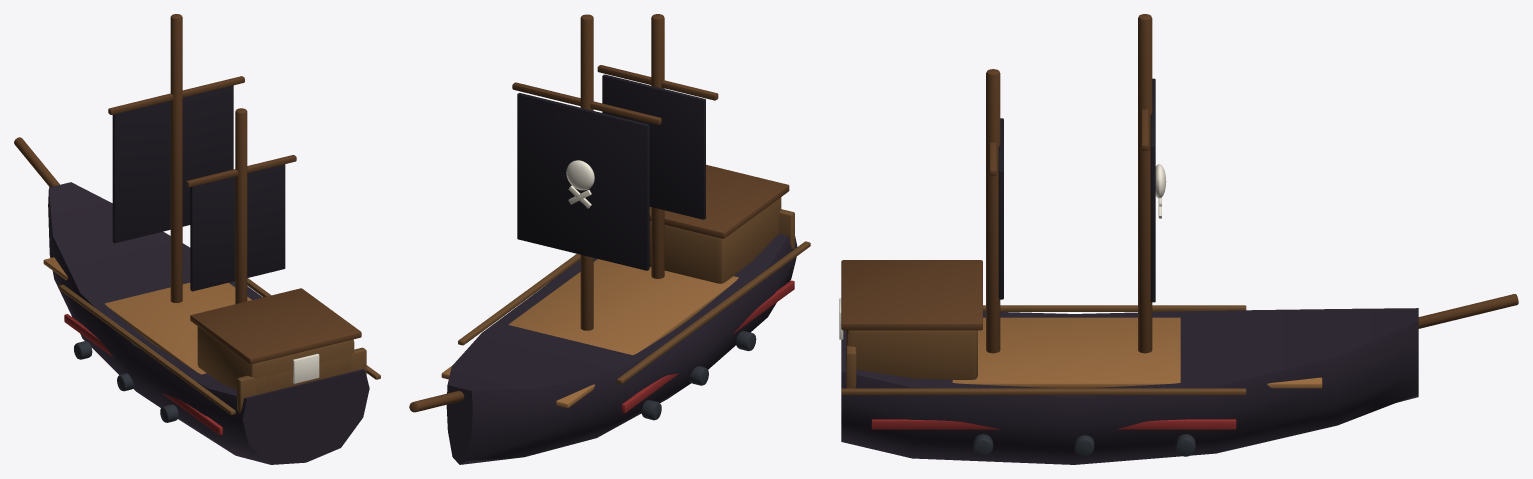
The model's file is PirateShipSmall.glb.
3 views of the same model, side by side, from view 1: azimuth 30°, elevation 25°; view 2: azimuth 150°, elevation 25°; view 3: azimuth 270°, elevation 25° (orthographic). The views are drawn at different scales.
Visible parts, largest first — view 1: PirateShipSmall; view 2: PirateShipSmall; view 3: PirateShipSmall.
Boxes of the visible parts, x1=… form: PirateShipSmall: x1=14, y1=14, x2=380, y2=464; PirateShipSmall: x1=409, y1=14, x2=810, y2=464; PirateShipSmall: x1=839, y1=14, x2=1518, y2=464.
Size of the model in its own units: 2.2 by 4.7 by 6.71.
